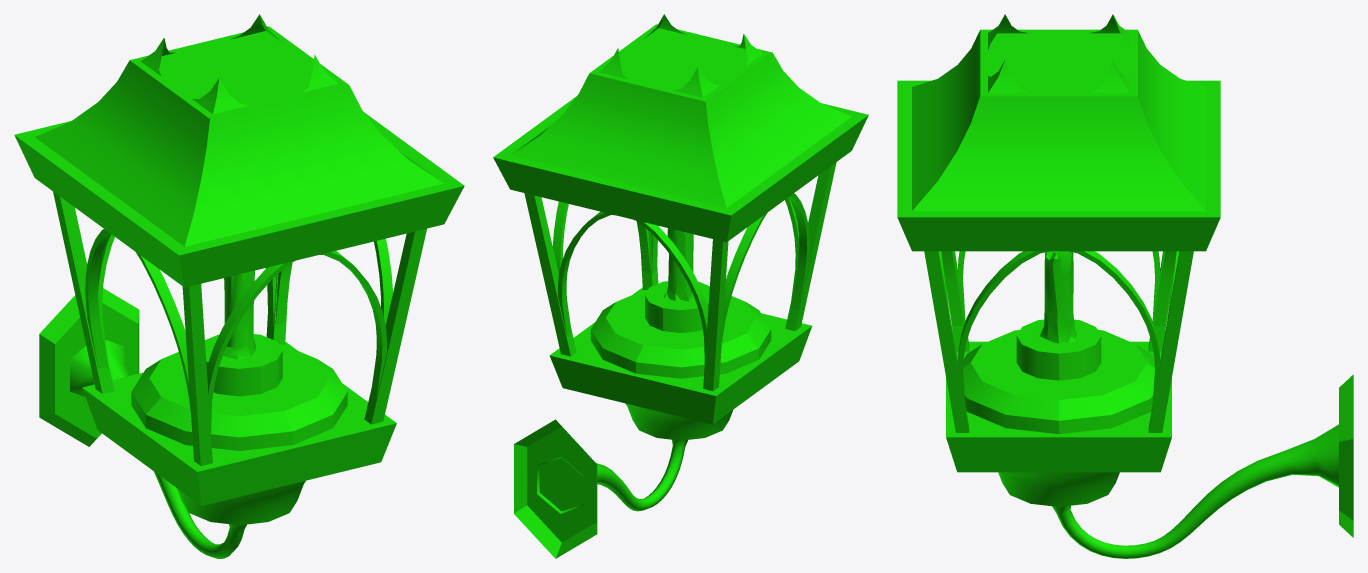
File: SM_lantern.fbx
3 renders of one model, left to right at view 1: azimuth 30°, elevation 25°; view 2: azimuth 150°, elevation 25°; view 3: azimuth 270°, elevation 25°, orthographic. The views are drawn at different scales.
Visible parts, largest first — view 1: lantern_low; view 2: lantern_low; view 3: lantern_low.
Part boxes in pixels (bbox=[...]): lantern_low: bbox=[14, 14, 464, 558]; lantern_low: bbox=[493, 14, 868, 558]; lantern_low: bbox=[897, 14, 1353, 558].
Bounding box in the file's own units: 63.23 × 113 × 89.22.
